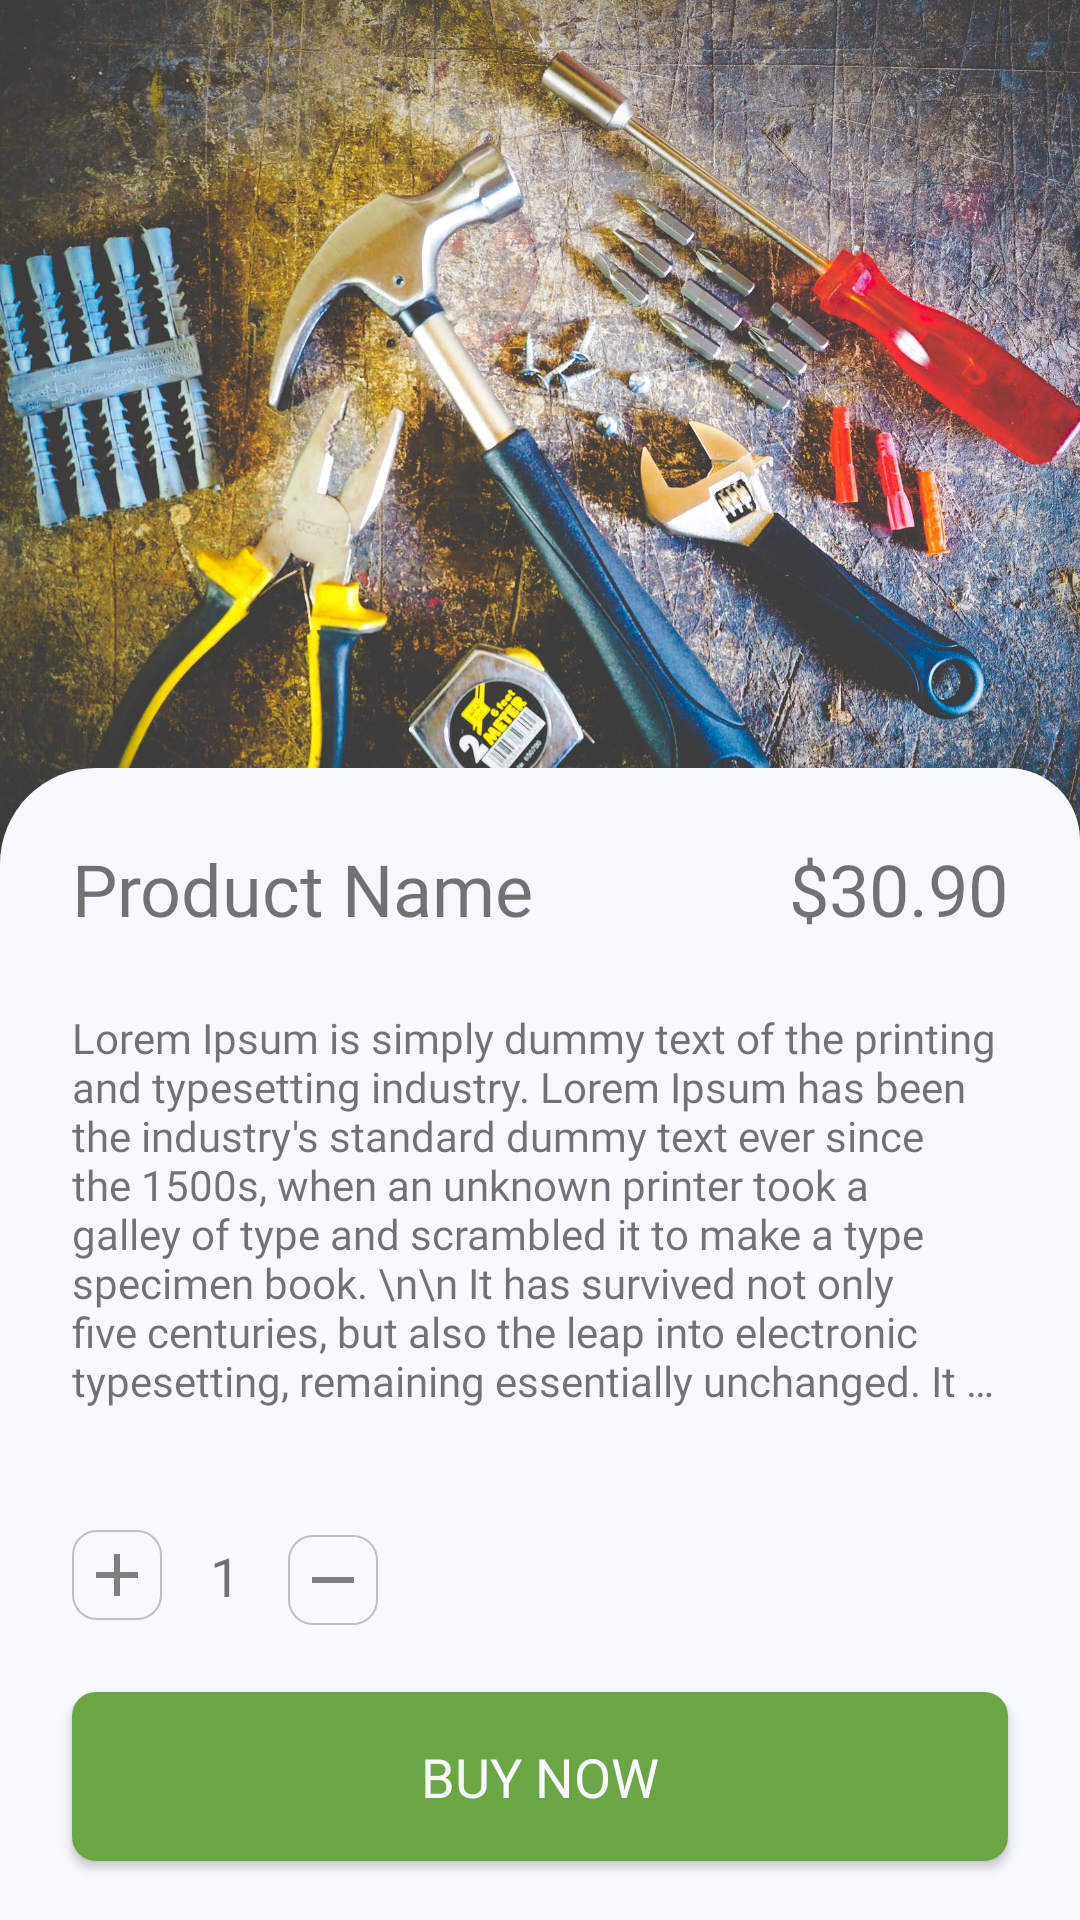

Icon click points for this 1080x1920 phone screenshot, format point (x, y):
add: point (117, 1575)
remove: point (333, 1580)
